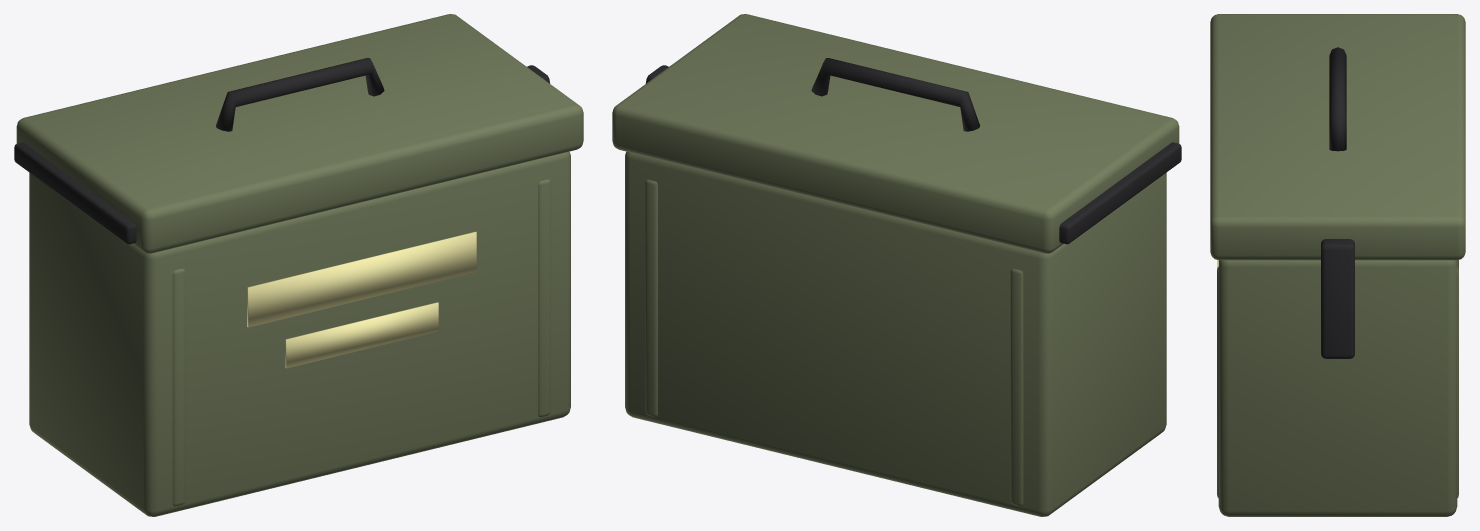
The model's file is SM_AmmoBox.glb.
The picture shows the model from 3 angles, left to right: view 1: azimuth 30°, elevation 25°; view 2: azimuth 150°, elevation 25°; view 3: azimuth 270°, elevation 25°; orthographic projection. The views are drawn at different scales.
Visible parts, largest first — view 1: SM_AmmoBox; view 2: SM_AmmoBox; view 3: SM_AmmoBox.
Part boxes in pixels (<box>): SM_AmmoBox: <box>14,14,583,516</box>; SM_AmmoBox: <box>612,14,1181,516</box>; SM_AmmoBox: <box>1210,14,1465,516</box>.
Size of the model in its own units: 0.3213 by 0.2199 by 0.15.
